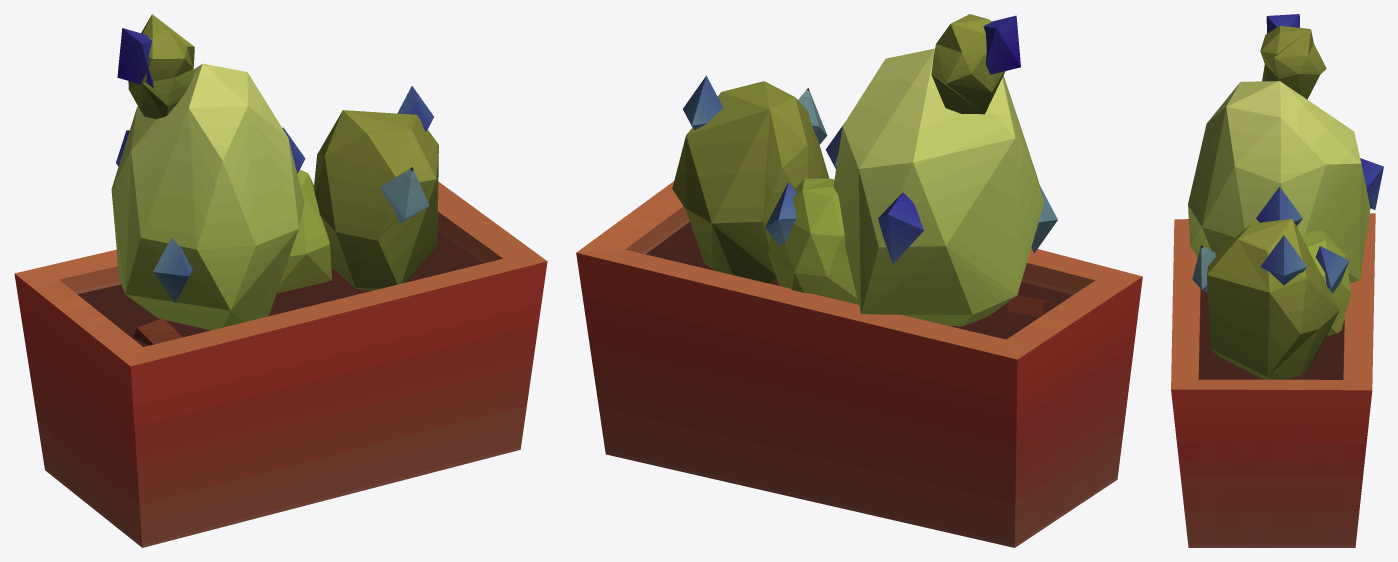
File: Flower_Pot_001.FBX
The picture shows the model from 3 angles, left to right: view 1: azimuth 30°, elevation 25°; view 2: azimuth 150°, elevation 25°; view 3: azimuth 270°, elevation 25°; orthographic projection. The views are drawn at different scales.
Parts seen in each view (by area): view 1: Flower_Pot_001; view 2: Flower_Pot_001; view 3: Flower_Pot_001.
Part boxes in pixels (box(x1,y1,x2,y2)): Flower_Pot_001: box(14, 14, 547, 547); Flower_Pot_001: box(576, 14, 1142, 547); Flower_Pot_001: box(1171, 14, 1383, 547).
Size of the model in its own units: 0.2283 by 0.1175 by 0.2416.
